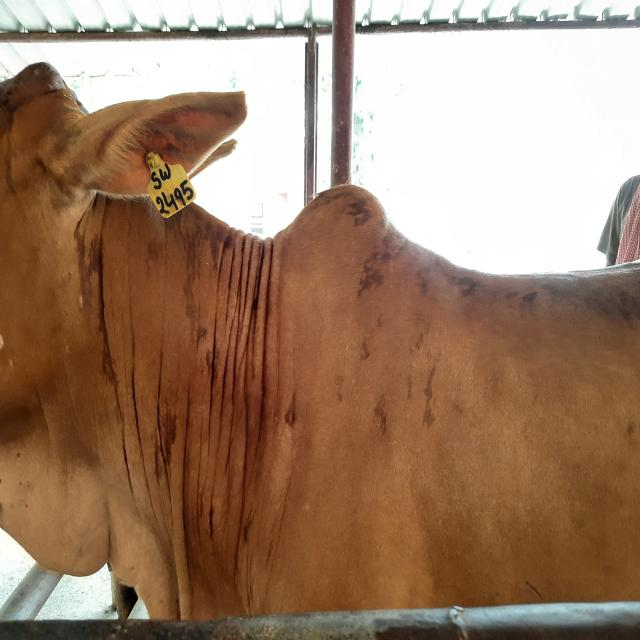cow: (1, 59, 640, 624)
hump: (259, 184, 413, 240)
